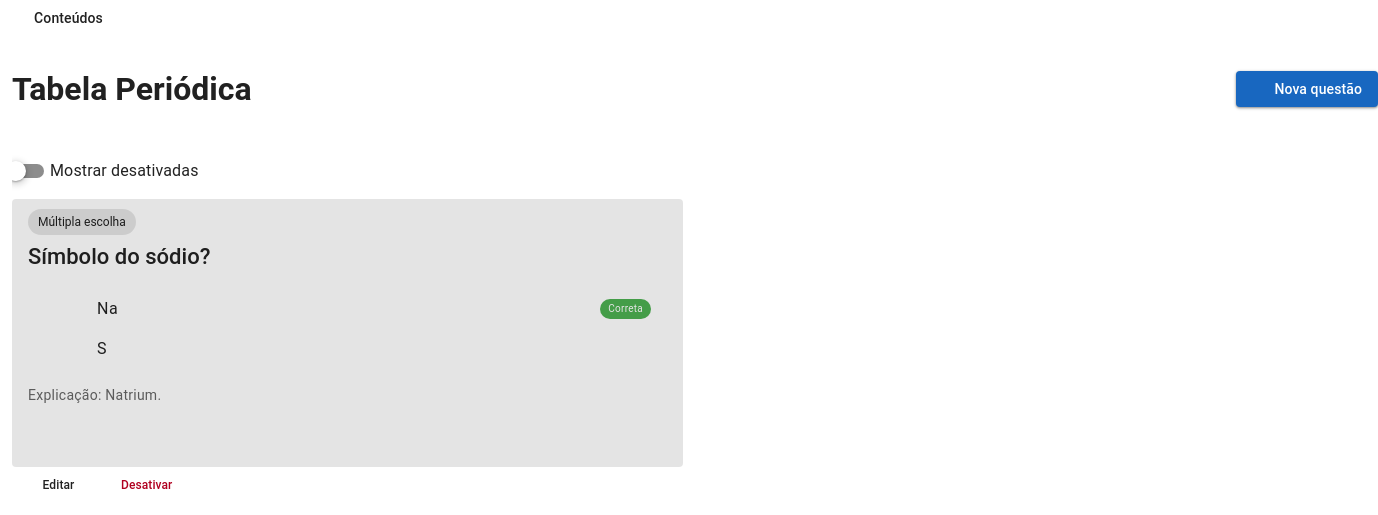
Scenario: QuestionsPage › shows deactivated questions on request
Click the checkbox labelled "Mostrar desativadas" at (124, 170), box [50, 161, 199, 180]
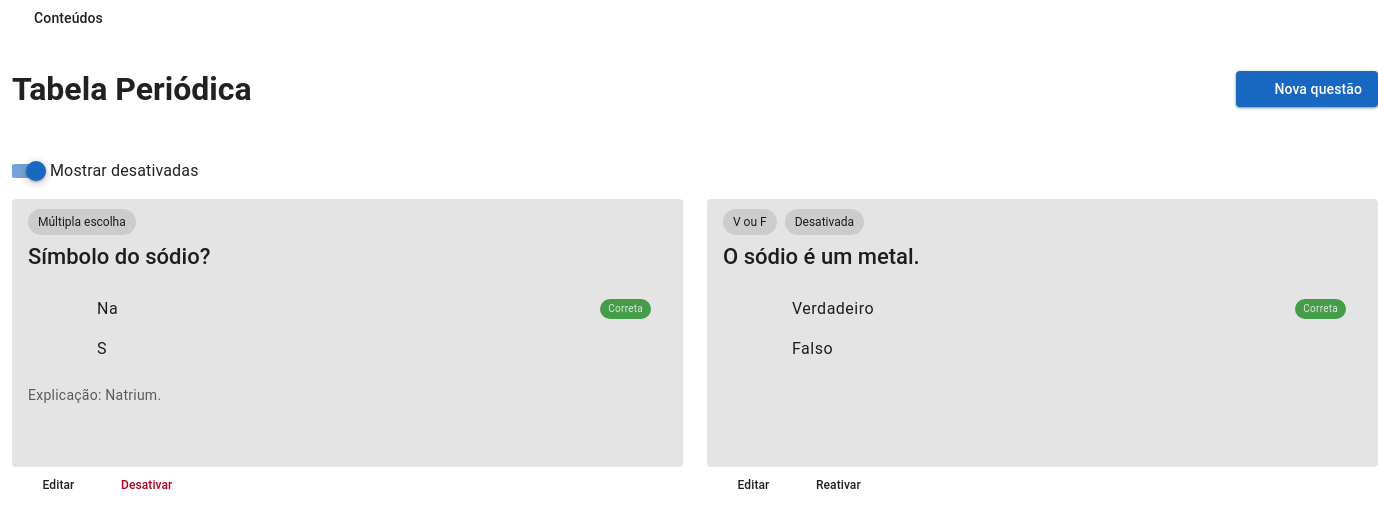
Expected: the element with test id "question-inactive" reads "Desativada", [795, 215, 854, 229]
Expected: the element with test id "question-type-q-2" reads "V ou F", [733, 215, 767, 229]
Expected: the button with test id "question-toggle-q-2" reads "Reativar", [785, 471, 873, 499]
